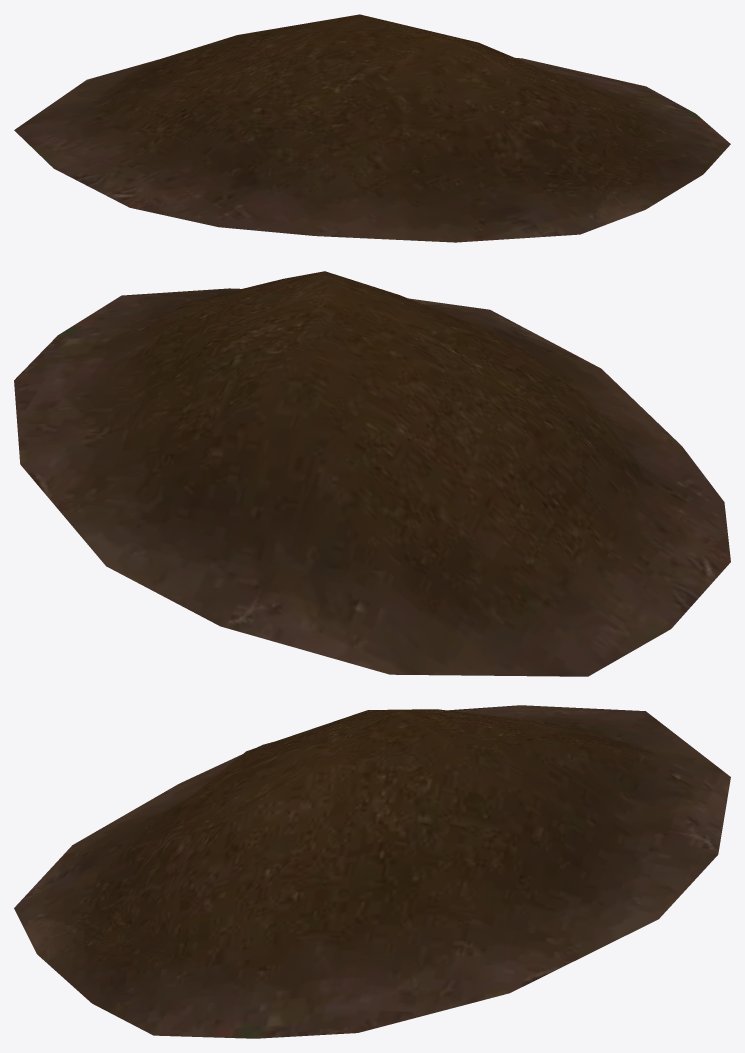
3 renders of one model, top to bottom at view 1: azimuth 30°, elevation 25°; view 2: azimuth 150°, elevation 25°; view 3: azimuth 270°, elevation 25°, orthographic. The views are drawn at different scales.
Size of the model in its own units: 3.59 by 0.6732 by 3.26.
Materials: 1 (1 with a texture image).
